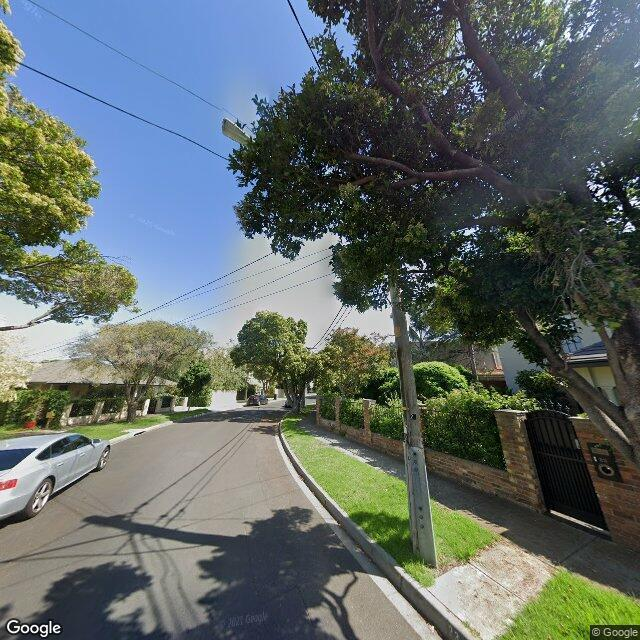timber-pole: (389, 274, 435, 570)
